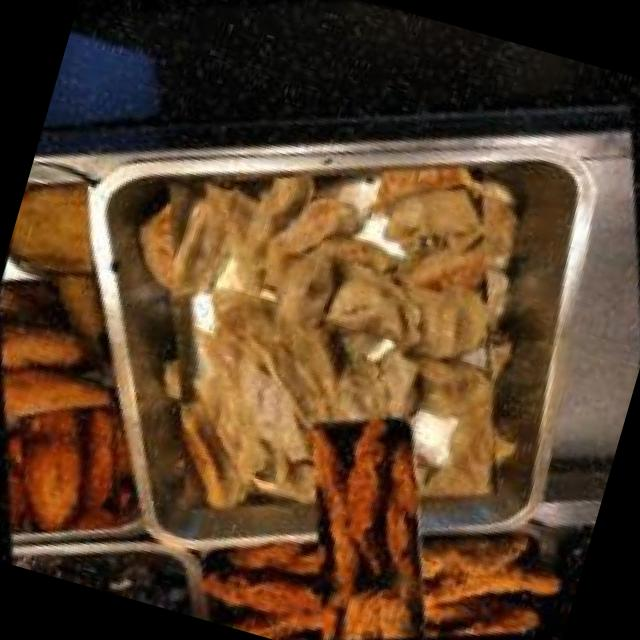chicken_nuggets: (0, 162, 116, 304)
fried_chicken: (212, 411, 530, 640)
fried_dumplings: (80, 81, 592, 594)
triangle_hash_brown: (0, 379, 158, 558)
